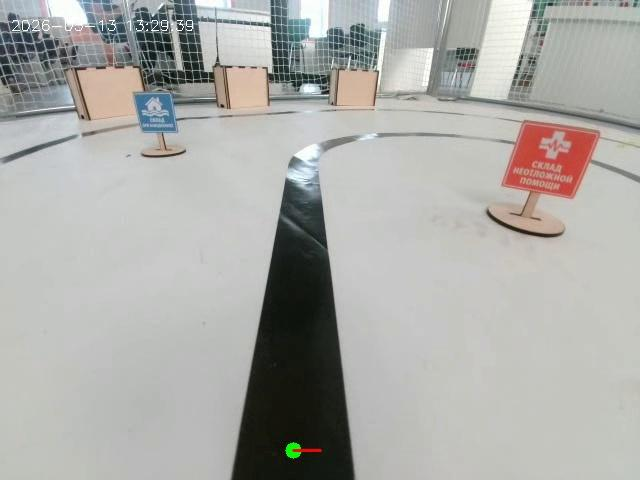flood: (126, 90, 183, 169)
medical: (500, 81, 597, 262)
